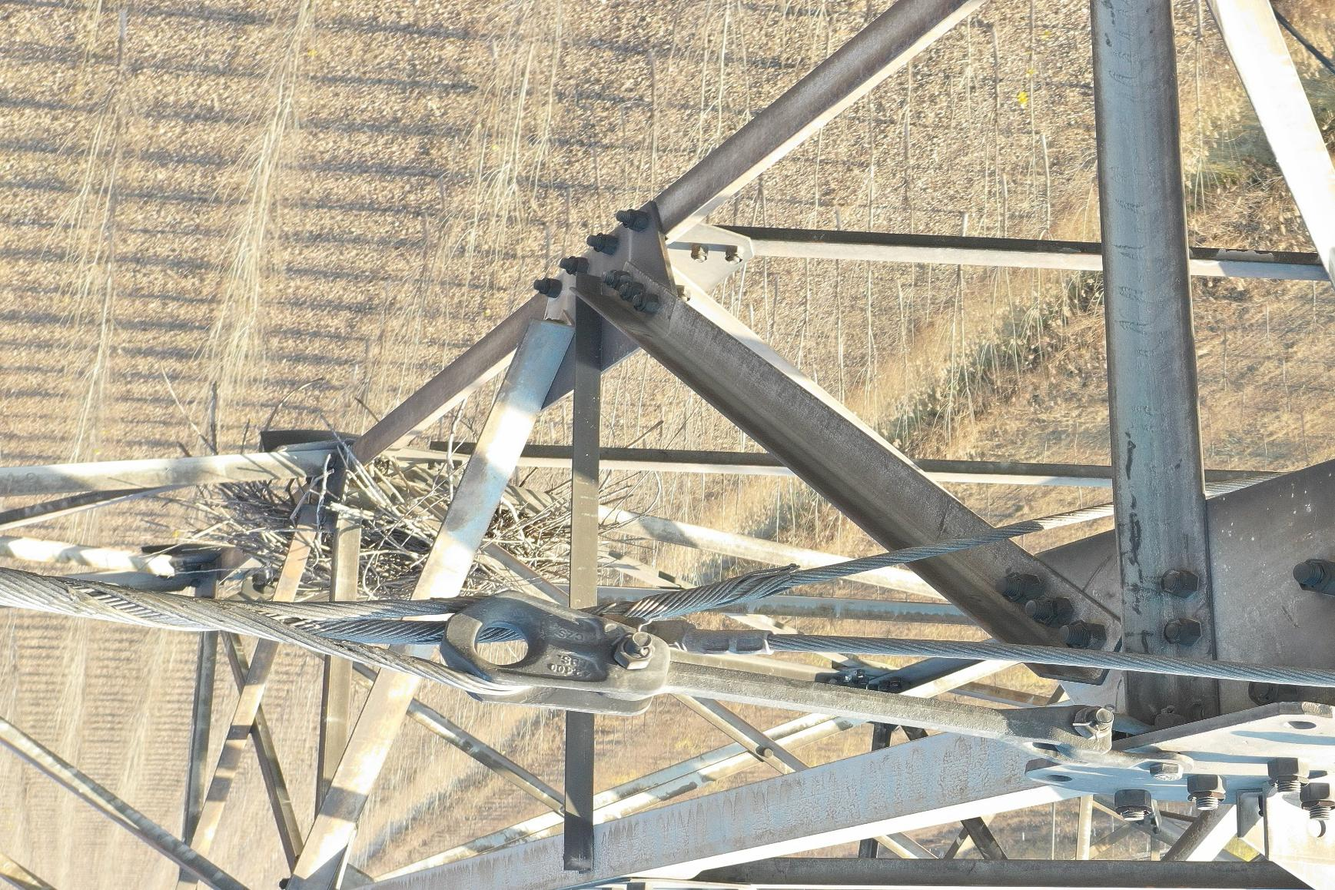nest: (183, 402, 643, 603)
